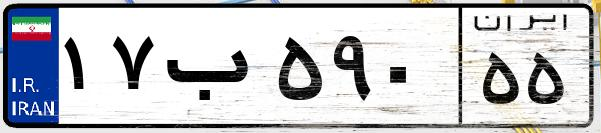0: (385, 28, 445, 110)
1: (57, 26, 110, 100)
5: (270, 28, 330, 110), (475, 38, 525, 113), (525, 38, 570, 115)
7: (110, 28, 158, 98)
9: (330, 28, 385, 110)
ب: (158, 20, 270, 120)
